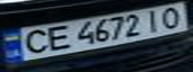2: (121, 11, 148, 38)
4: (75, 19, 96, 47)
6: (93, 16, 115, 44)
7: (106, 13, 127, 42)
C: (15, 27, 54, 56)
E: (42, 22, 75, 52)
I: (139, 7, 169, 33)
O: (154, 4, 190, 29)
